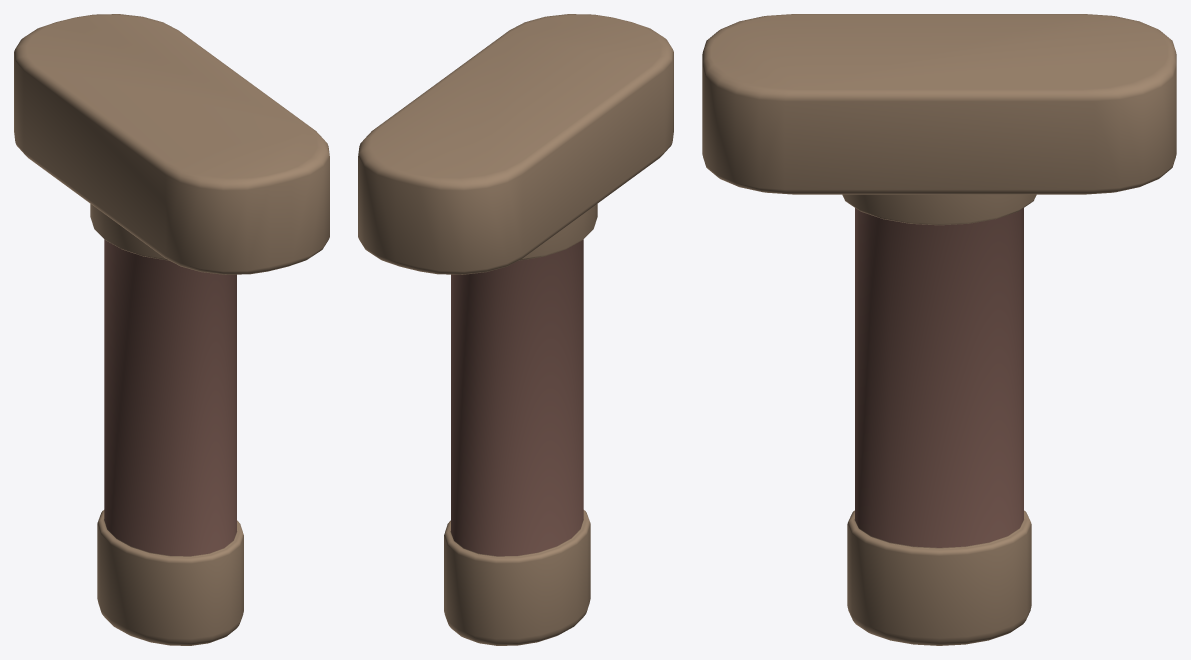
The model's file is Handle_Sword.fbx.
The picture shows the model from 3 angles, left to right: view 1: azimuth 30°, elevation 25°; view 2: azimuth 150°, elevation 25°; view 3: azimuth 270°, elevation 25°; orthographic projection. The views are drawn at different scales.
Parts seen in each view (by area): view 1: Handle_Sword; view 2: Handle_Sword; view 3: Handle_Sword.
Boxes of the visible parts, x1,y1,x2,y2 form: Handle_Sword: (14, 14, 329, 645); Handle_Sword: (358, 14, 673, 645); Handle_Sword: (702, 14, 1176, 645).
Bounding box in the file's own units: 58.5 × 188 × 142.
